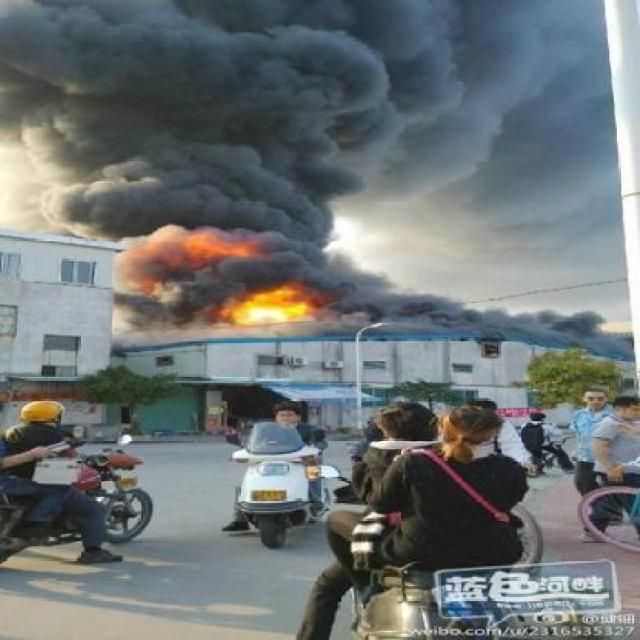Fire: (208, 282, 322, 336)
Smoke: (14, 14, 366, 283)
